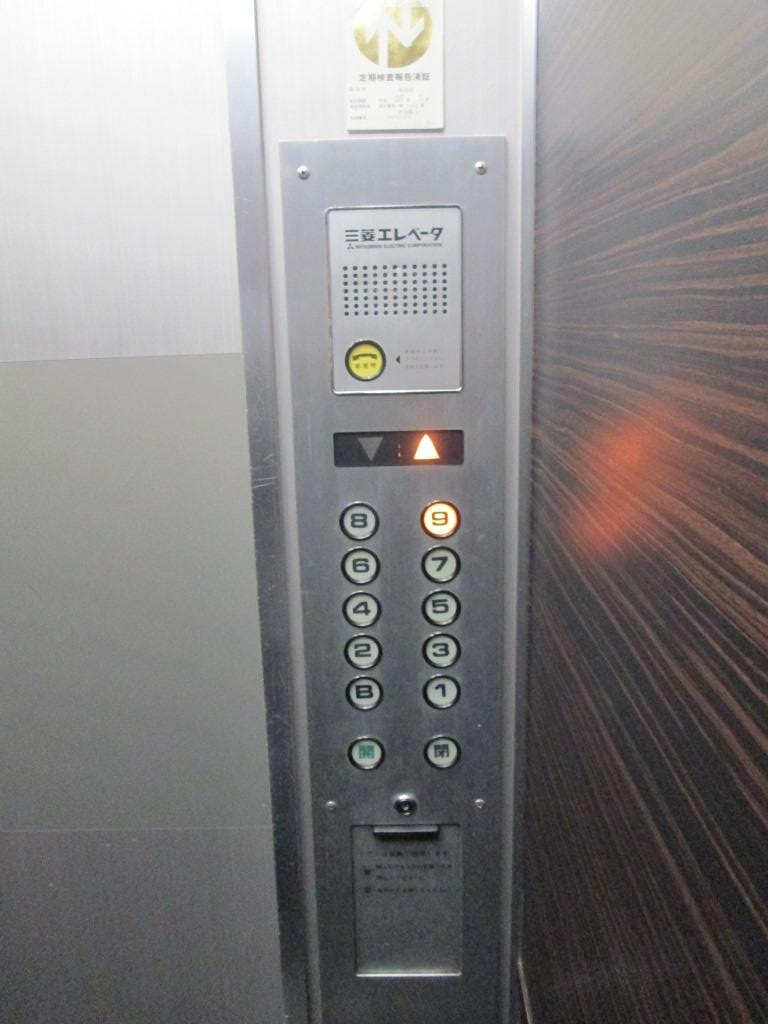1: (419, 671, 463, 712)
2: (341, 630, 384, 672)
3: (419, 630, 463, 671)
4: (339, 587, 382, 632)
5: (418, 586, 463, 630)
6: (338, 543, 381, 588)
7: (417, 542, 463, 586)
8: (337, 499, 380, 544)
9: (417, 496, 462, 541)
B: (341, 672, 384, 714)
text_close: (420, 732, 463, 773)
text_oepn: (344, 733, 387, 774)
